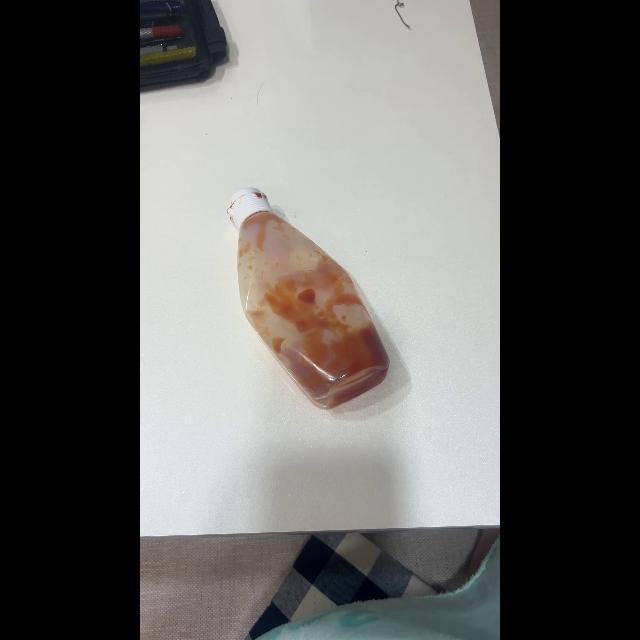dirty: (238, 194, 388, 406)
